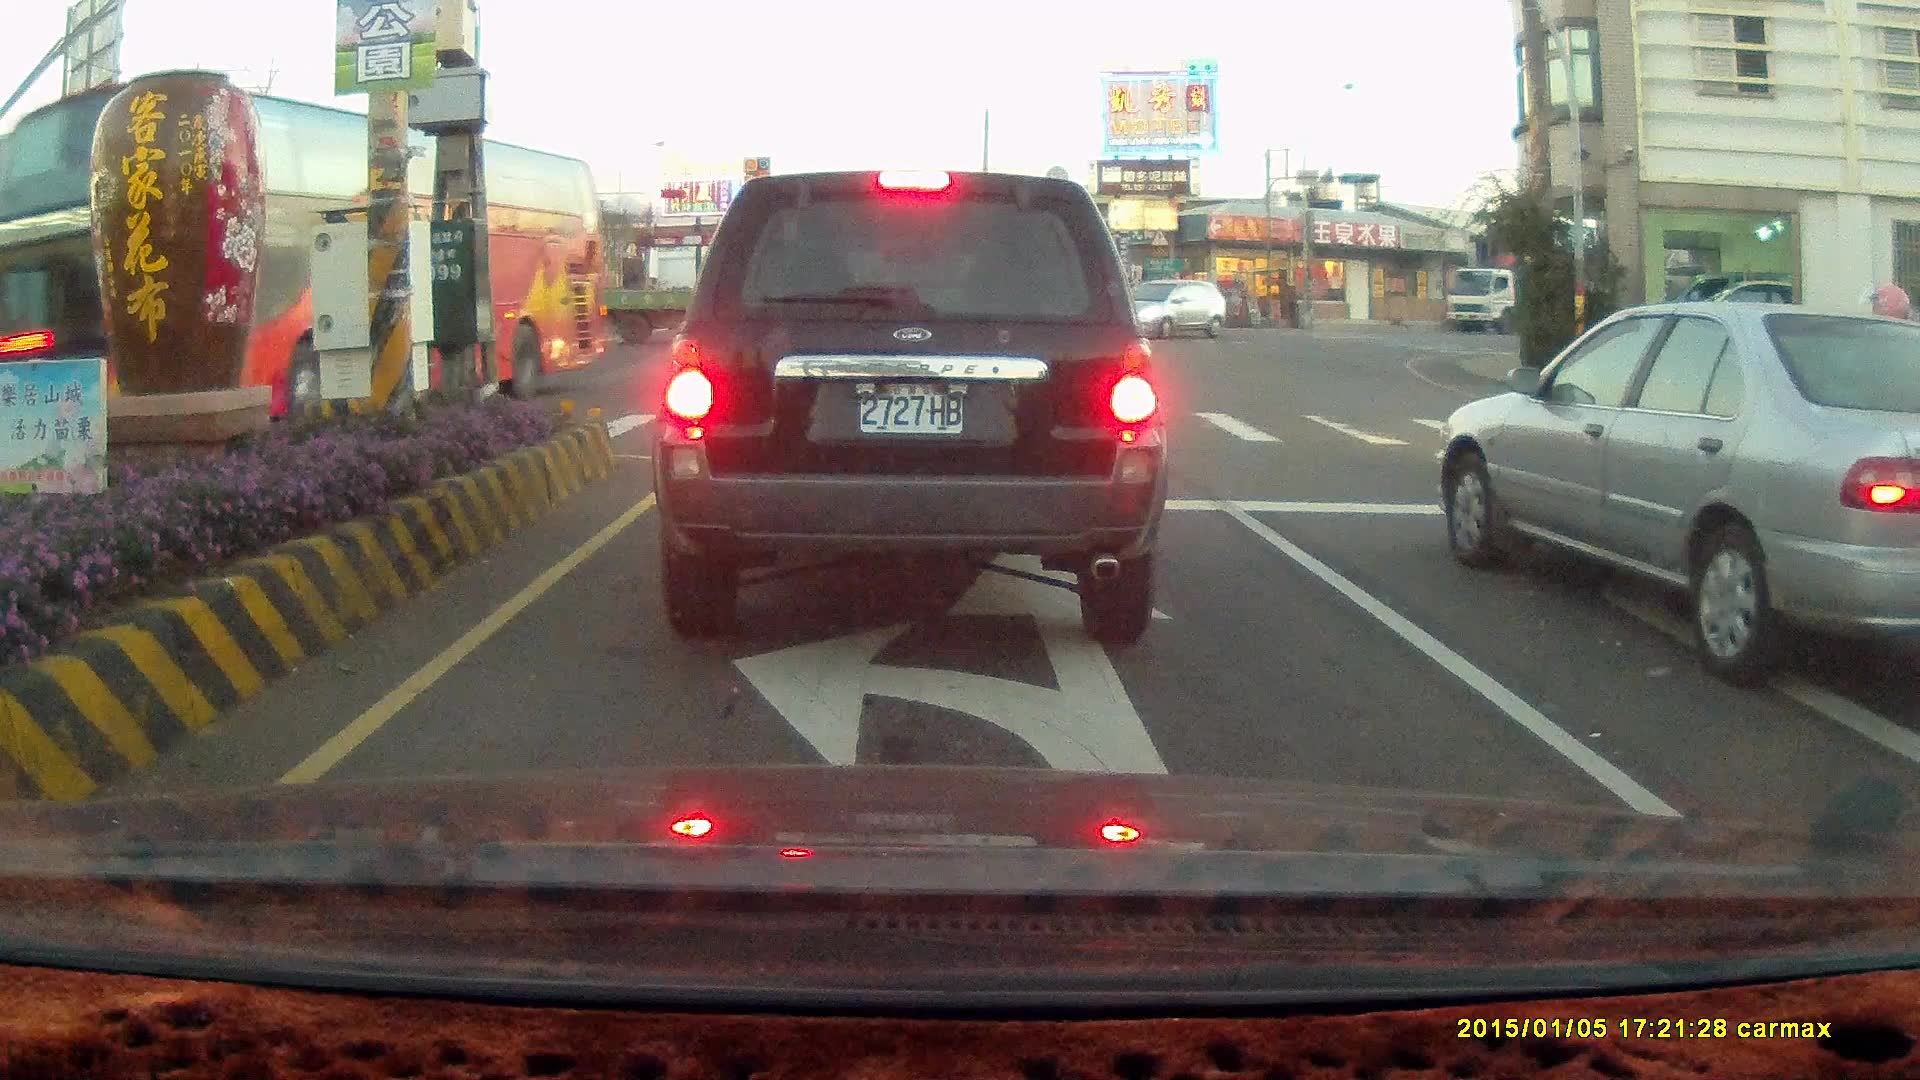vehicle: (649, 166, 1170, 647), (13, 78, 603, 435), (1428, 295, 1920, 691), (1448, 302, 1920, 694), (591, 255, 814, 345), (1444, 252, 1605, 336), (1642, 276, 1784, 356), (1896, 493, 1920, 836), (1125, 277, 1225, 340)
